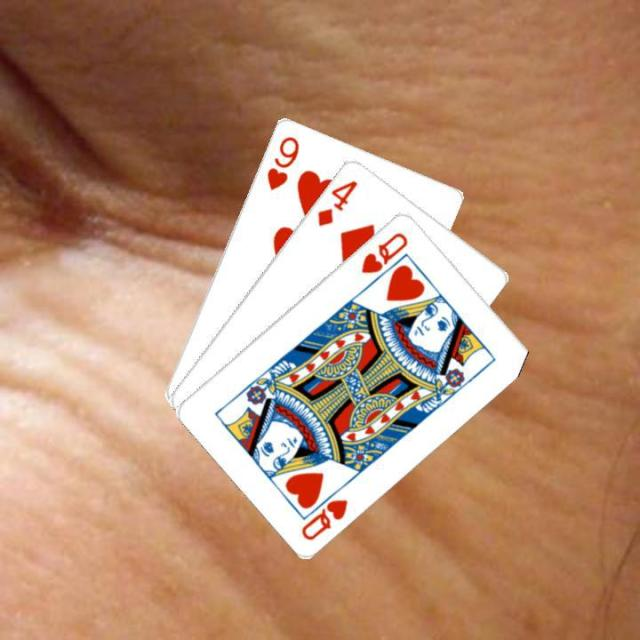4D: (313, 175, 359, 228)
9H: (262, 132, 302, 192)
QH: (297, 480, 350, 542), (356, 228, 410, 276)
